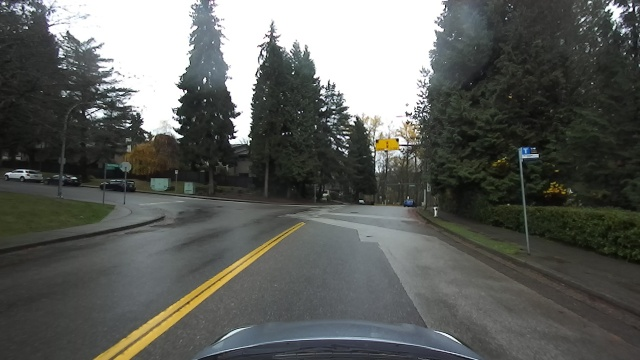car: (3, 164, 44, 185), (100, 176, 137, 194), (48, 174, 81, 187), (355, 197, 377, 206), (320, 189, 332, 203), (402, 196, 414, 208)
